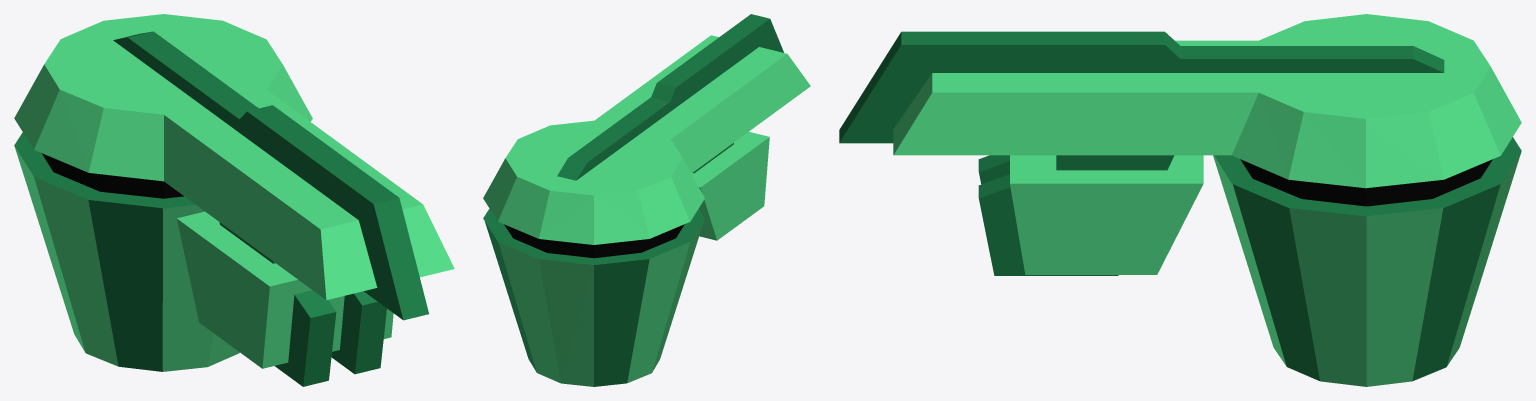
File: Body.FBX
The picture shows the model from 3 angles, left to right: view 1: azimuth 30°, elevation 25°; view 2: azimuth 150°, elevation 25°; view 3: azimuth 270°, elevation 25°; orthographic projection. The views are drawn at different scales.
Parts seen in each view (by area): view 1: VIFS002, VIFS001, VIFS004; view 2: VIFS002, VIFS001, VIFS004; view 3: VIFS002, VIFS001, VIFS004.
Boxes of the visible parts, x1,y1,x2,y2 form: VIFS002: (14, 14, 454, 371); VIFS001: (14, 31, 428, 386); VIFS004: (41, 153, 183, 198); VIFS002: (483, 35, 810, 386); VIFS001: (483, 14, 783, 386); VIFS004: (504, 224, 684, 258); VIFS002: (893, 14, 1521, 386); VIFS001: (839, 31, 1521, 381); VIFS004: (1240, 159, 1492, 206).
Bounding box in the file's own units: 0.4 × 0.49 × 0.88.
